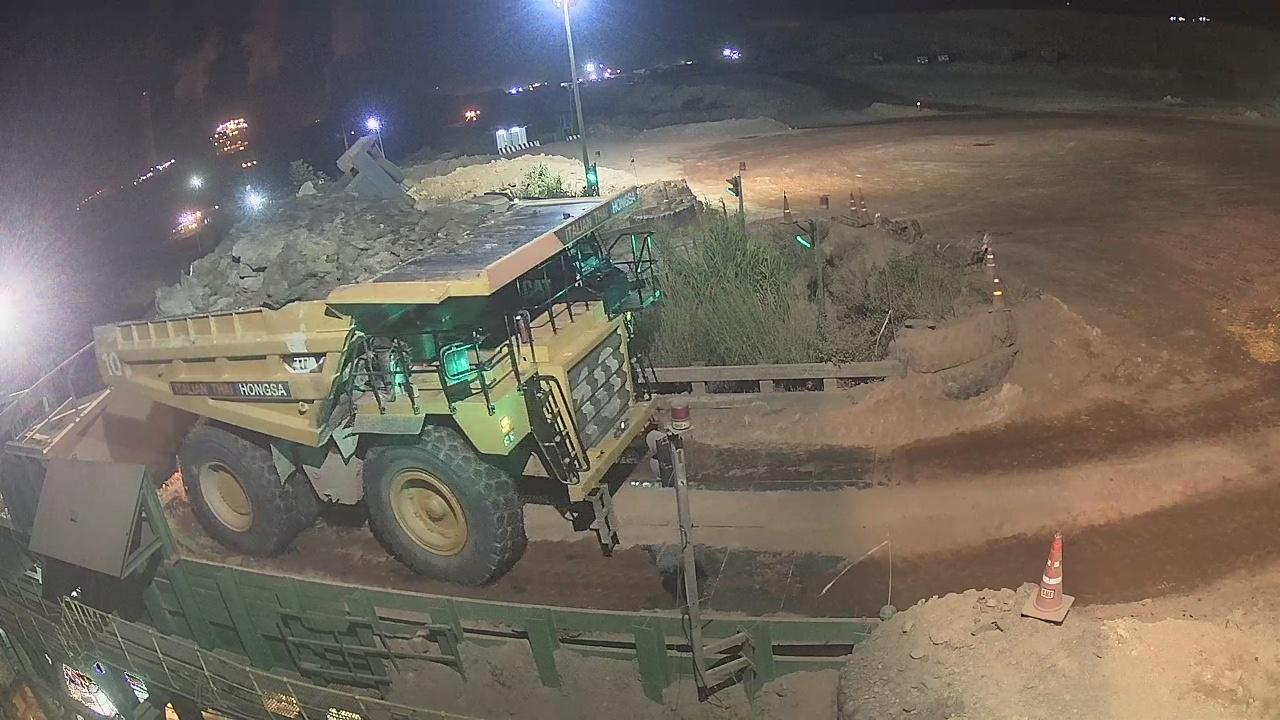company: (164, 377, 301, 406)
front_number: (561, 329, 643, 459)
full_load: (154, 183, 479, 311)
mining_truck: (84, 174, 693, 586)
tail_number: (97, 350, 131, 386)
truck_size: (276, 348, 330, 378)
